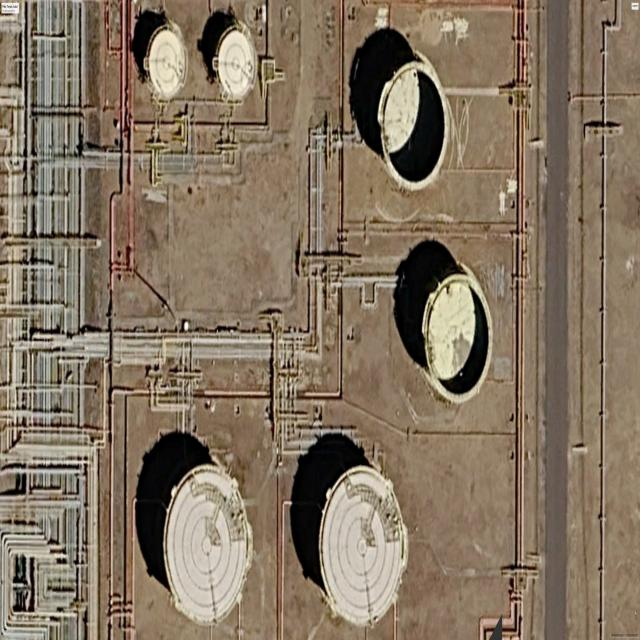Oil Rafinery: (160, 461, 253, 626), (318, 465, 408, 627), (422, 264, 493, 404), (376, 56, 449, 191), (212, 23, 257, 101), (144, 23, 187, 101)
